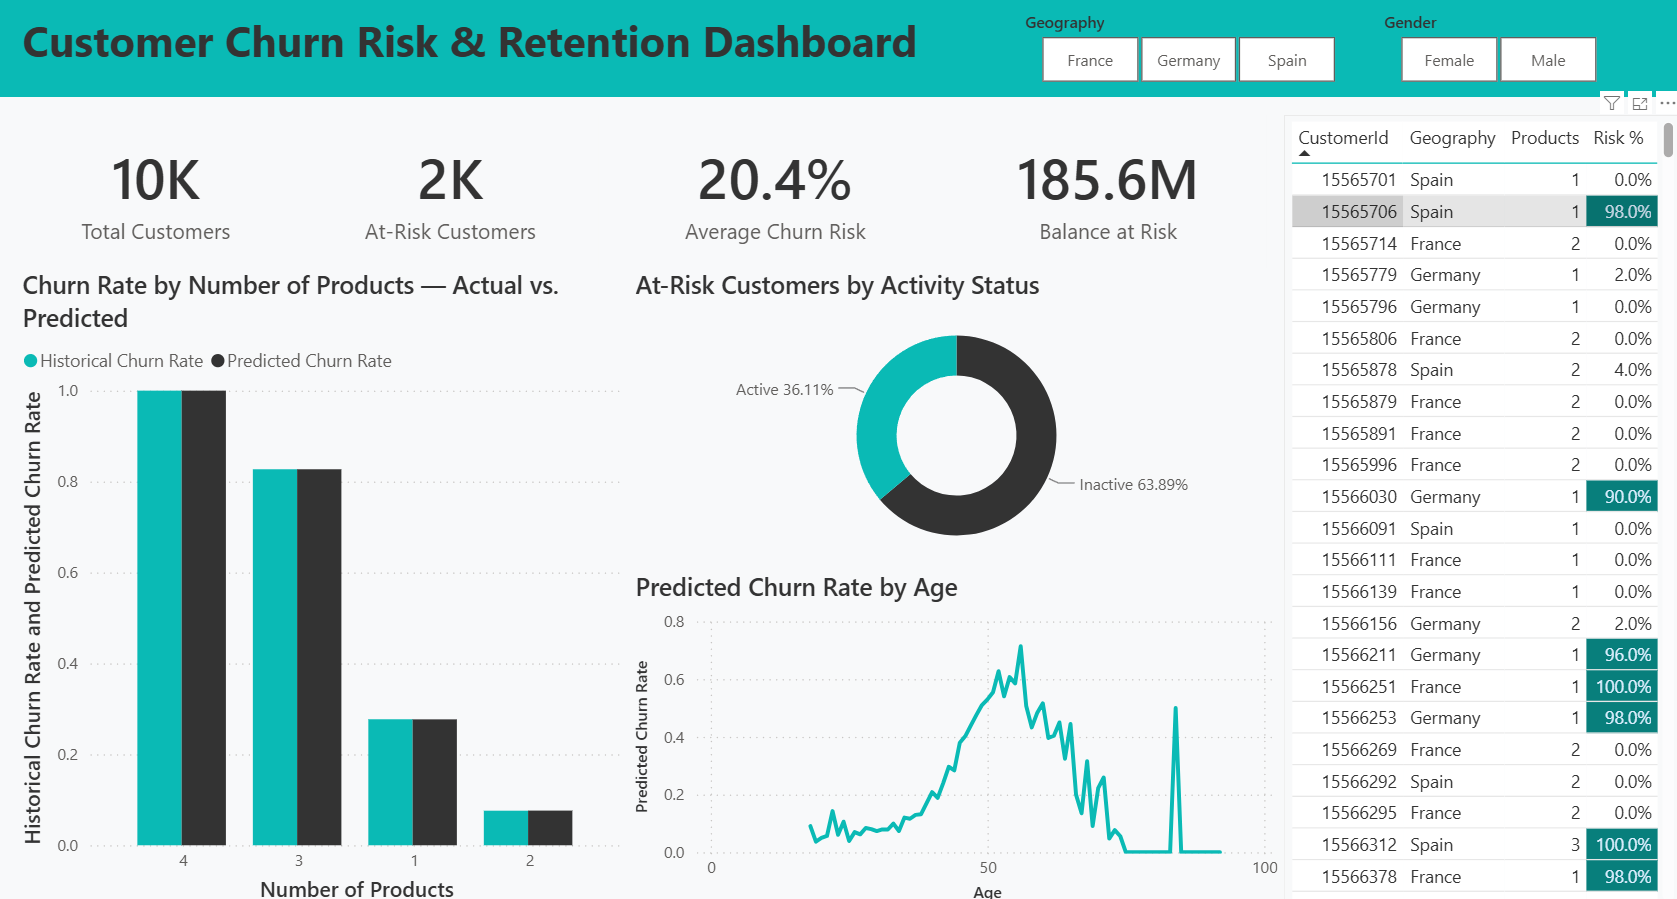

The page's visual inventory and layout, read from the dashboard file:
{"tool":"powerbi","page":{"name":"Page 1","canvas":[1280,720],"ordinal":0},"visuals":[{"type":"shape","box":[0,0,1280,104.6],"z":0},{"type":"cardVisual","fields":{"Data":["Dashboard_Predictions_Data.Total Customers"]},"box":[17.4,118.3,212.3,116],"z":1000},{"type":"cardVisual","fields":{"Data":["Dashboard_Predictions_Data.At-Risk Customers"]},"box":[235.8,118.3,222.9,116],"z":2000},{"type":"cardVisual","fields":{"Data":["Dashboard_Predictions_Data.Average Churn Risk"]},"box":[466.4,118.3,254,116],"z":3000},{"type":"clusteredColumnChart","title":"Churn Rate by Number of Products — Actual vs. Predicted","fields":{"Category":["Dashboard_Predictions_Data.NumOfProducts"],"Y":["Dashboard_Predictions_Data.Historical Churn Rate","Dashboard_Predictions_Data.Predicted Churn Rate"]},"box":[17.4,234.3,464.8,486.1],"z":4000},{"type":"donutChart","title":"At-Risk Customers by Activity Status","fields":{"Category":["Dashboard_Predictions_Data.Active Status"],"Y":["Dashboard_Predictions_Data.At-Risk Customers"]},"box":[482.3,234.3,496.7,229],"z":5000},{"type":"tableEx","fields":{"Values":["Dashboard_Predictions_Data.CustomerId","Dashboard_Predictions_Data.Geography","Sum(Dashboard_Predictions_Data.NumOfProducts)","Avg(Dashboard_Predictions_Data.Churn_Probability)"]},"box":[979,118.3,301,601.3],"z":6000},{"type":"slicer","fields":{"Values":["Dashboard_Predictions_Data.Geography"]},"box":[769.7,34.1,272.2,66],"z":7000},{"type":"slicer","fields":{"Values":["Dashboard_Predictions_Data.Gender"]},"box":[1041.9,34.1,197.9,66],"z":8000},{"type":"textbox","box":[17.4,34.1,723.4,66],"z":9000},{"type":"lineChart","fields":{"Category":["Dashboard_Predictions_Data.Age"],"Y":["Dashboard_Predictions_Data.Predicted Churn Rate"]},"box":[482.3,463.3,496.7,257.1],"z":10000},{"type":"cardVisual","fields":{"Data":["Dashboard_Predictions_Data.Balance at Risk"]},"box":[725.7,118.3,240.4,116],"z":11000}]}

Visuals, with their boxes on the page's 1280x720 design canvas (x1, y1, x2, y2). These are canvas units, not pixel positions in the 1677x899 screenshot, which may show the page scaled, cropped or inside an application window:
shape: box=[0, 0, 1280, 105]
cardVisual - Dashboard_Predictions_Data.Total Customers: box=[17, 118, 230, 234]
cardVisual - Dashboard_Predictions_Data.At-Risk Customers: box=[236, 118, 459, 234]
cardVisual - Dashboard_Predictions_Data.Average Churn Risk: box=[466, 118, 720, 234]
"Churn Rate by Number of Products — Actual vs. Predicted" clusteredColumnChart: box=[17, 234, 482, 720]
"At-Risk Customers by Activity Status" donutChart: box=[482, 234, 979, 463]
tableEx - Dashboard_Predictions_Data.CustomerId x Dashboard_Predictions_Data.Geography: box=[979, 118, 1280, 720]
slicer - Dashboard_Predictions_Data.Geography: box=[770, 34, 1042, 100]
slicer - Dashboard_Predictions_Data.Gender: box=[1042, 34, 1240, 100]
textbox: box=[17, 34, 741, 100]
lineChart - Dashboard_Predictions_Data.Age x Dashboard_Predictions_Data.Predicted Churn Rate: box=[482, 463, 979, 720]
cardVisual - Dashboard_Predictions_Data.Balance at Risk: box=[726, 118, 966, 234]
